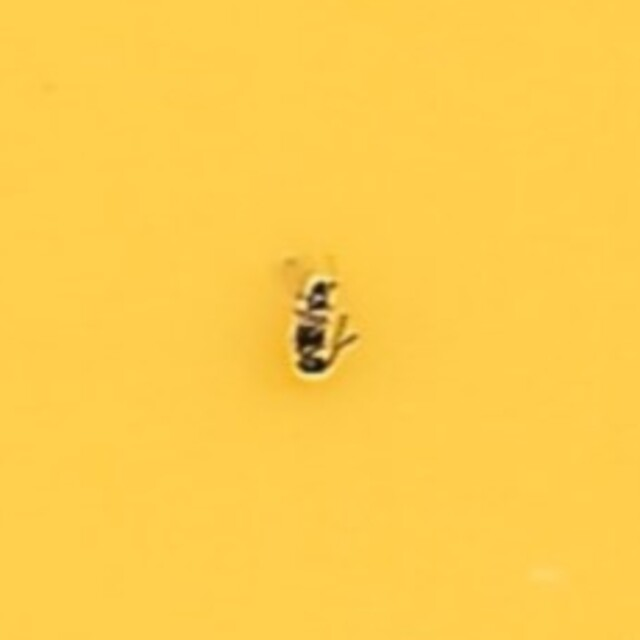Hymenoptera: (278, 261, 362, 379)
